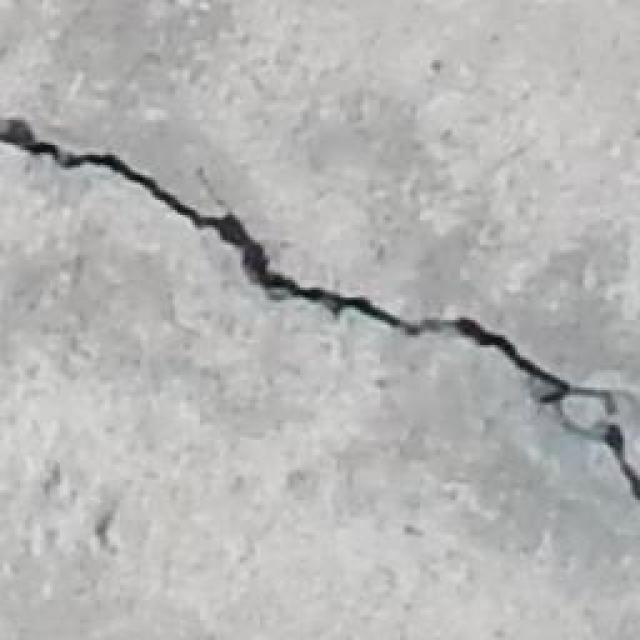concrete-crack: (0, 115, 640, 508)
